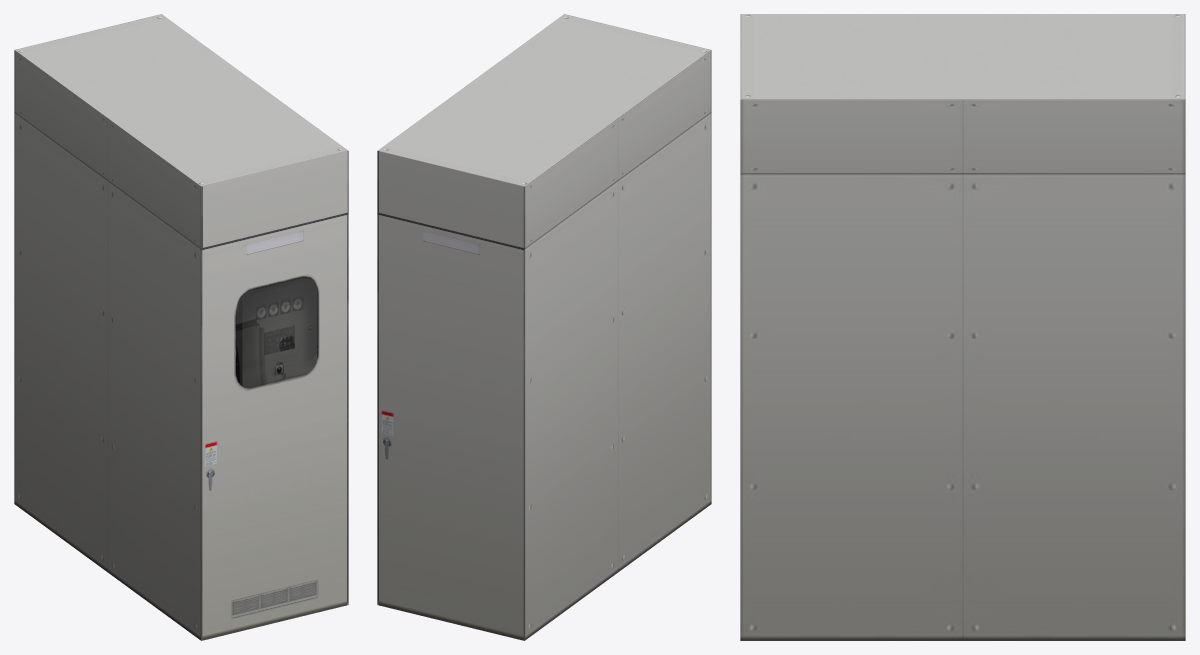
3 views of the same model, side by side, from view 1: azimuth 30°, elevation 25°; view 2: azimuth 150°, elevation 25°; view 3: azimuth 270°, elevation 25° (orthographic). The views are drawn at different scales.
Visible parts, largest first — view 1: LV-2R1; view 2: LV-2R1; view 3: LV-2R1.
Part boxes in pixels (x1,y1,x2,y2): LV-2R1: (14, 14, 348, 640); LV-2R1: (377, 14, 711, 640); LV-2R1: (740, 14, 1185, 640).
Size of the model in its own units: 1 by 2.95 by 2.2.
1 material, 1 textured.
